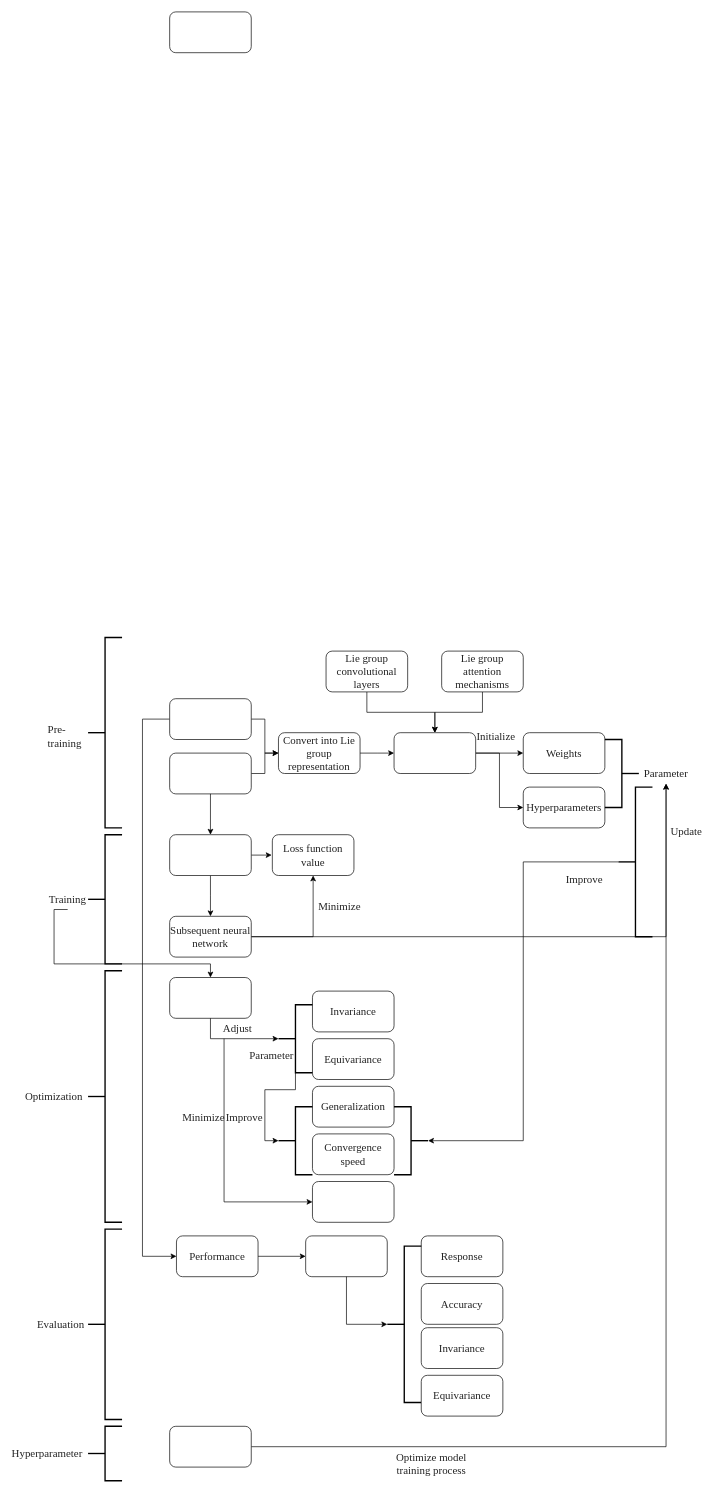
Image size: 718x1493. Some labels were removed from this diagram. Each missing label, with the centre of its shape:
Adam optimizer: [210,997]
Geometric transformations: [346,1256]
Hyperparameter Tuning: [210,1446]
Train dataset: [210,773]
Training iteration: [210,855]
Training loss: [353,1201]
Transformer model: [434,753]
Validation datasets: [210,719]
